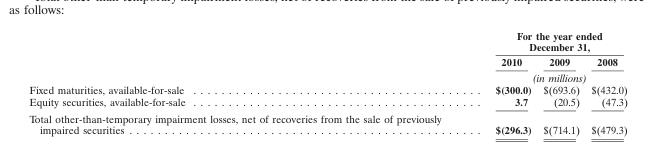table: (28, 29, 626, 136)
table column: (28, 29, 467, 136), (467, 29, 536, 136), (536, 29, 584, 136), (584, 29, 626, 136)
table column header: (28, 29, 626, 83)
table row: (28, 109, 626, 136), (28, 29, 626, 53), (28, 53, 626, 69), (28, 69, 626, 83), (28, 95, 626, 109), (28, 83, 626, 95)
table spanning cell: (467, 29, 626, 53), (467, 69, 626, 83)
